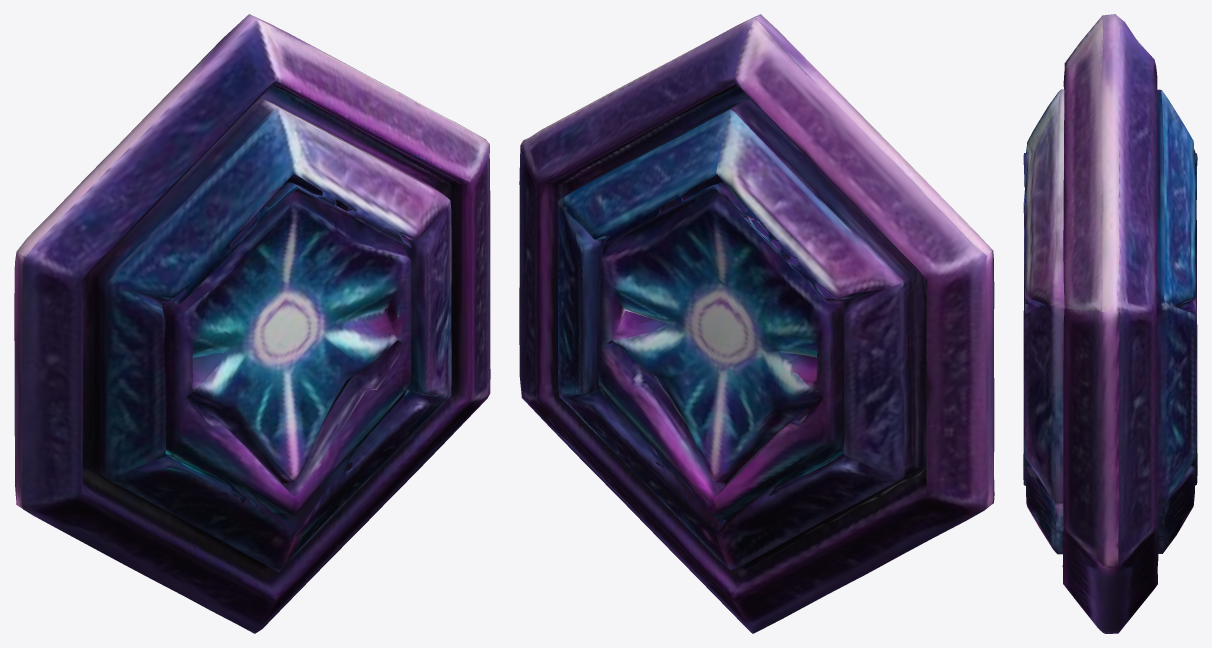
Rendered from fs_cascade_rune.glb.
The picture shows the model from 3 angles, left to right: view 1: azimuth 30°, elevation 25°; view 2: azimuth 150°, elevation 25°; view 3: azimuth 270°, elevation 25°; orthographic projection.
Parts seen in each view (by area): view 1: geometry_0; view 2: geometry_0; view 3: geometry_0.
Boxes of the visible parts, left/top/right/bottom form: geometry_0: left=14, top=14, right=490, bottom=633; geometry_0: left=519, top=14, right=994, bottom=633; geometry_0: left=1023, top=14, right=1197, bottom=633.
Bounding box in the file's own units: 0.7951 × 1 × 0.2553.
Materials: 1 (1 with a texture image).
